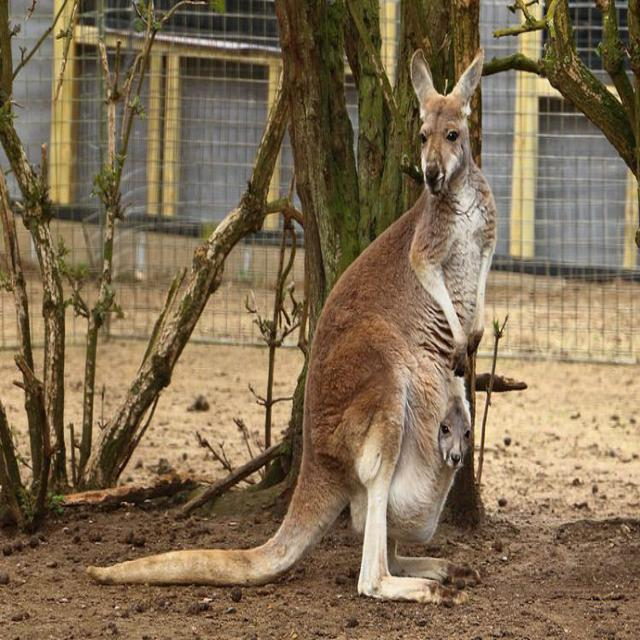kangaroo: (115, 53, 515, 603), (430, 396, 471, 474)
